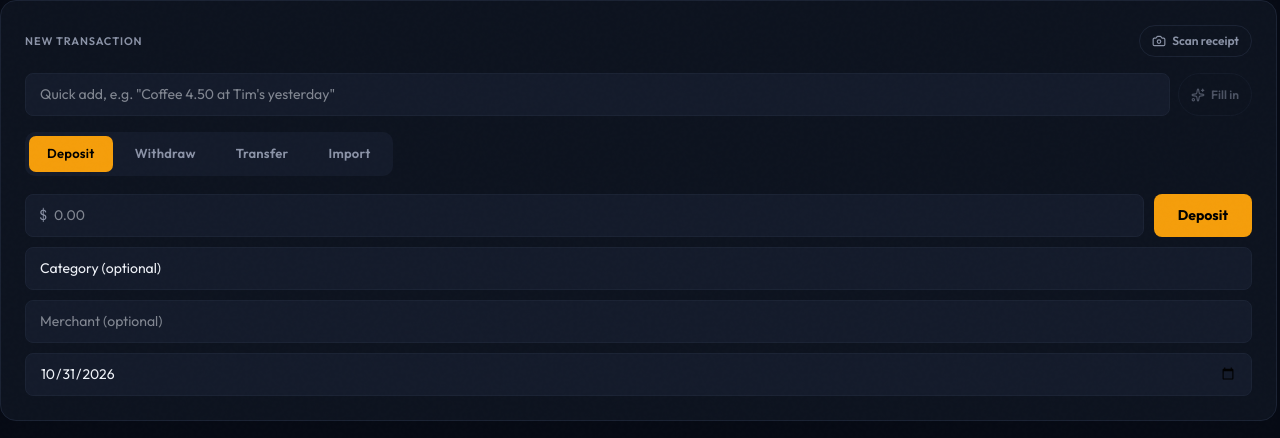
NewTransactionForm — the transaction date › has no date for a transfer
Step 1. Click the button "Transfer" → (262, 154), box 218,136 -> 307,172
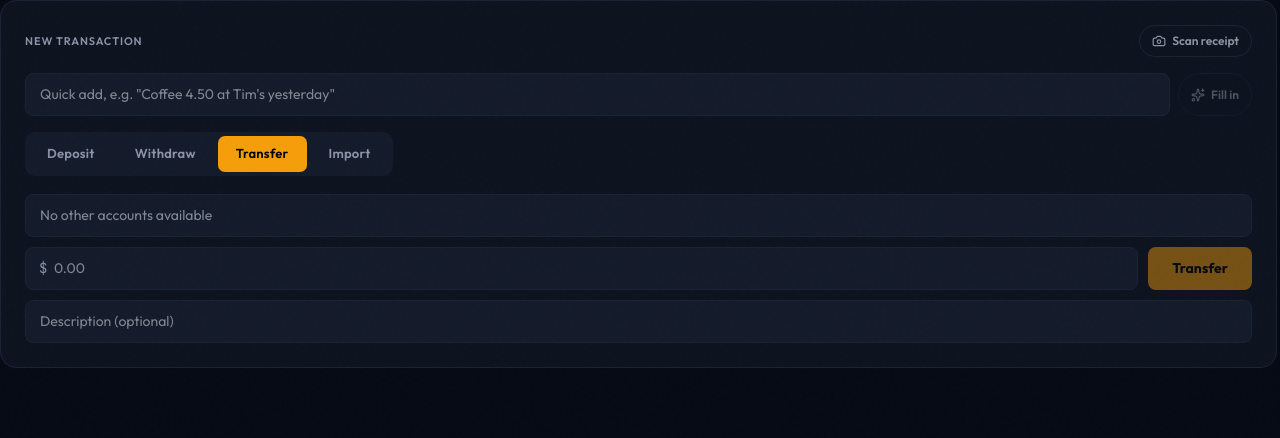
Expected: the date field labelled "Transaction date" is gone
